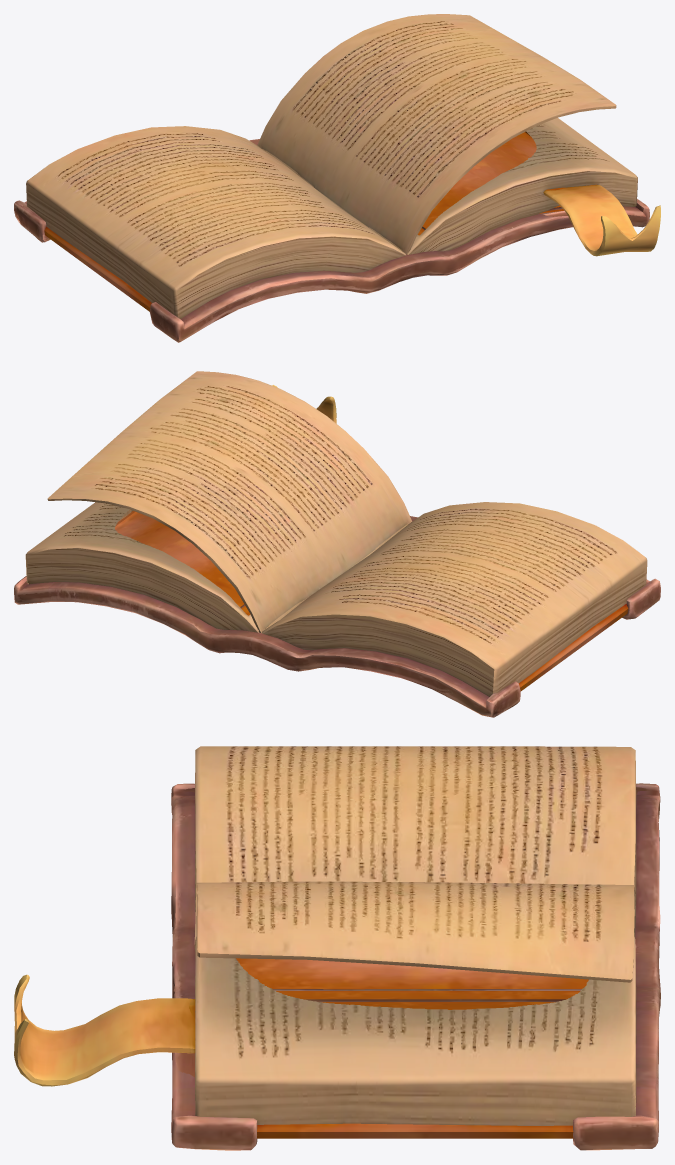
The picture shows the model from 3 angles, top to bottom: view 1: azimuth 30°, elevation 25°; view 2: azimuth 150°, elevation 25°; view 3: azimuth 270°, elevation 25°; orthographic projection. The views are drawn at different scales.
Visible parts, largest first — view 1: SM_Cook_Book_Open_01_LOD0; view 2: SM_Cook_Book_Open_01_LOD0; view 3: SM_Cook_Book_Open_01_LOD0.
Part boxes in pixels (<box>): SM_Cook_Book_Open_01_LOD0: <box>14,14,660,342</box>; SM_Cook_Book_Open_01_LOD0: <box>14,371,660,717</box>; SM_Cook_Book_Open_01_LOD0: <box>14,746,660,1150</box>.
Bounding box in the file's own units: 0.6256 × 0.1631 × 0.5022.
Materials: 1 (1 with a texture image).
